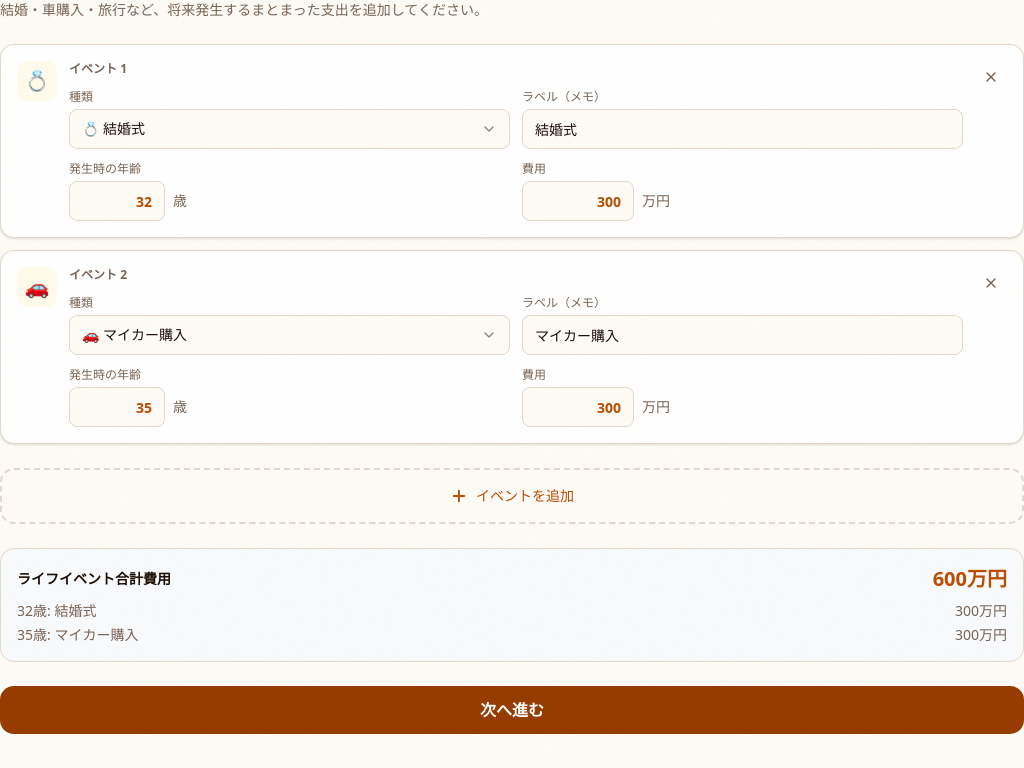
Test: LifeEventsStep interactions › the add-event button adds one event
The image size is (1024, 768).
Click the button "イベントを追加".
click(512, 496)  # box [0,468,1023,524]
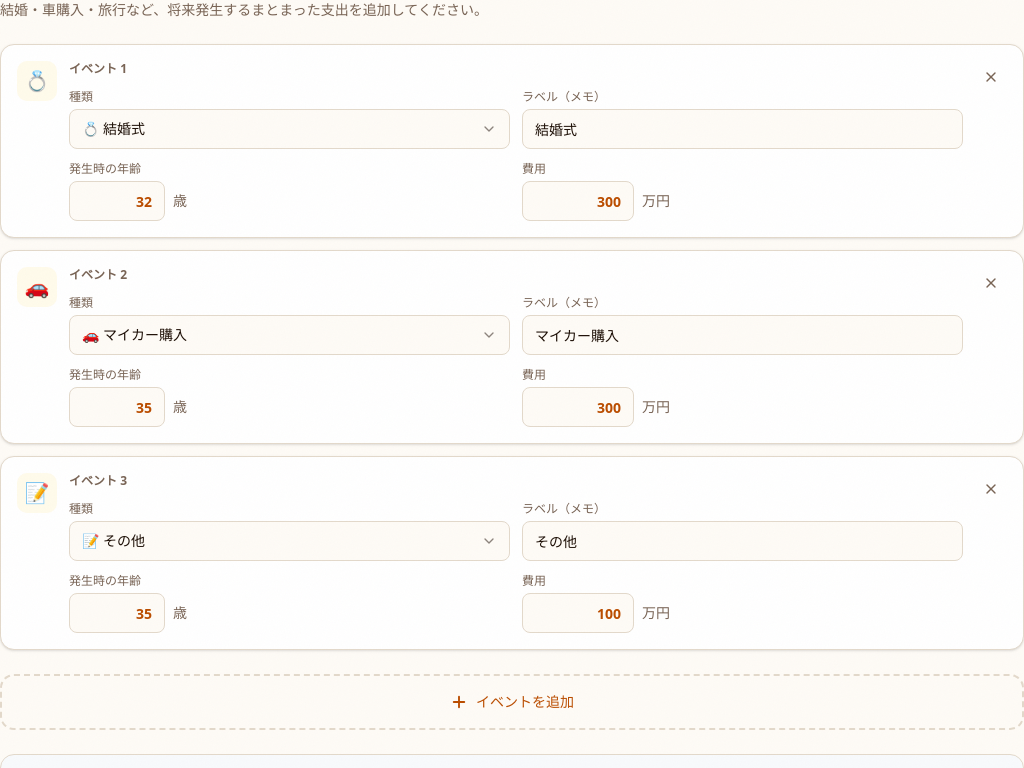
Expected: the text "📝 その他" is shown, [82,531,145,551]
